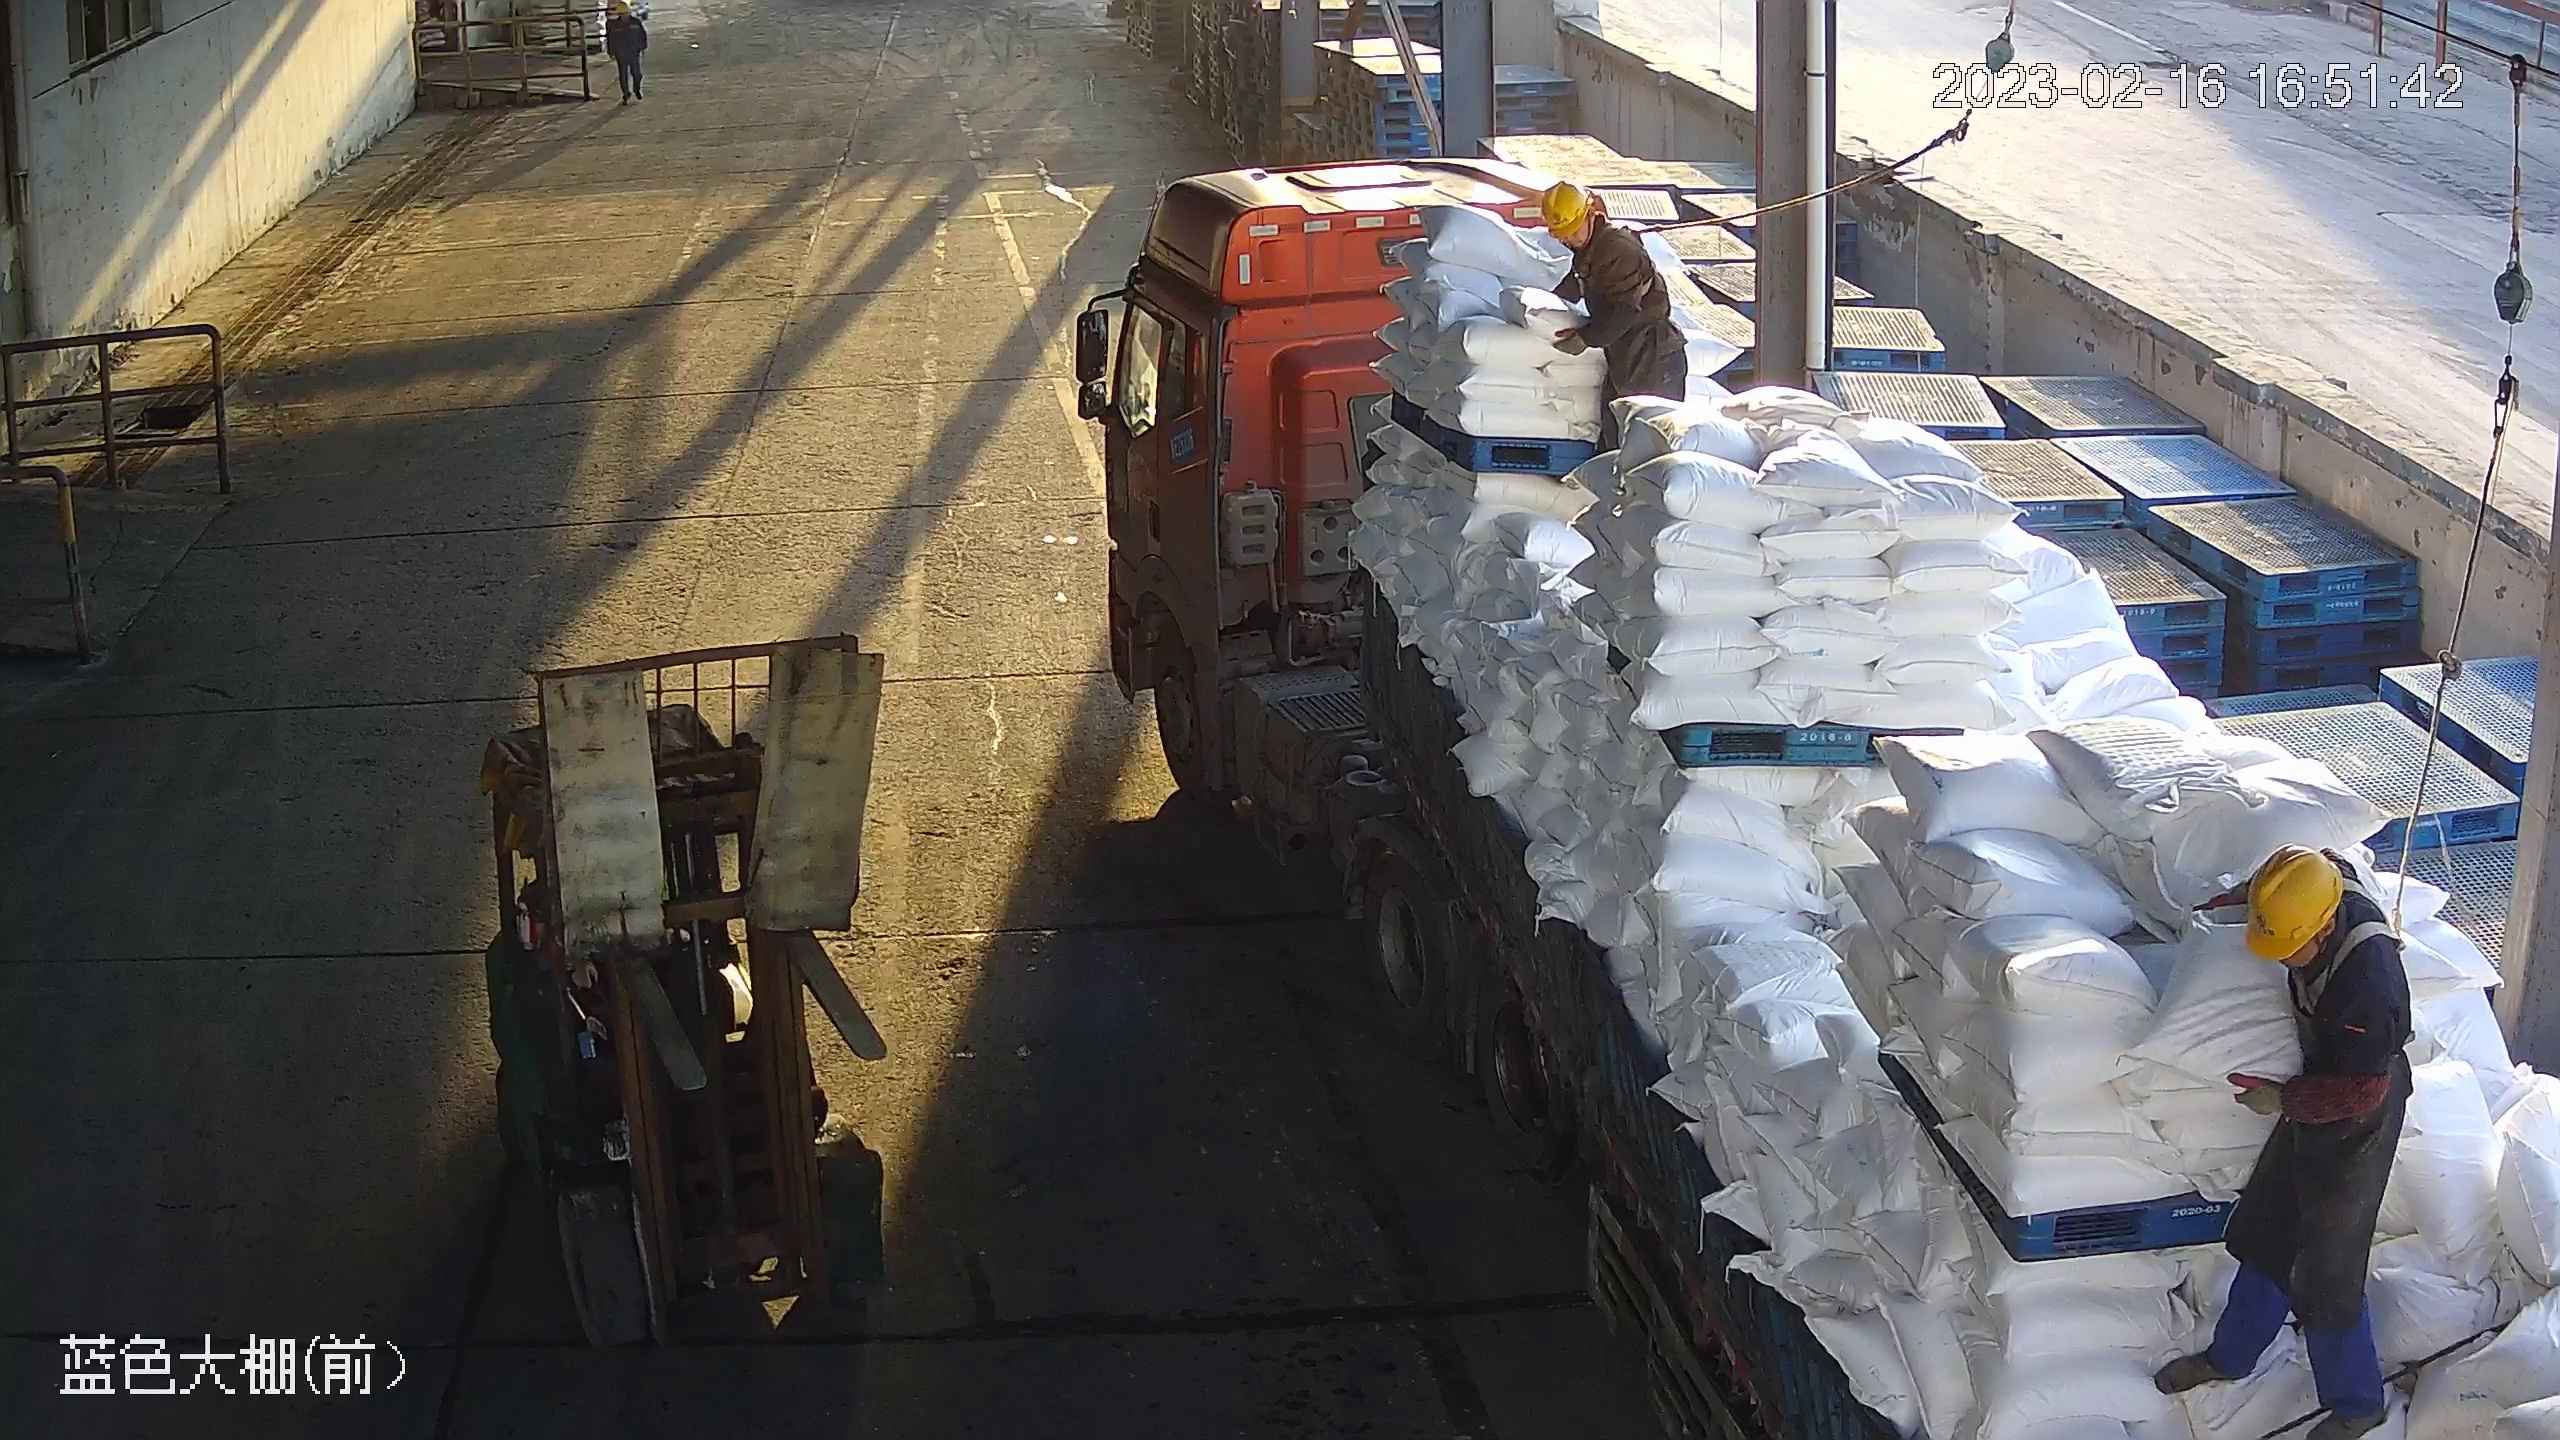belt: (2277, 875, 2412, 1018), (1567, 222, 1662, 305)
head: (2238, 847, 2414, 1025), (1538, 186, 1657, 273)
helmet: (2233, 845, 2340, 968), (1531, 177, 1596, 229)
people: (2164, 842, 2418, 1438), (1537, 180, 1696, 457)
truck: (1065, 127, 2559, 1440)
